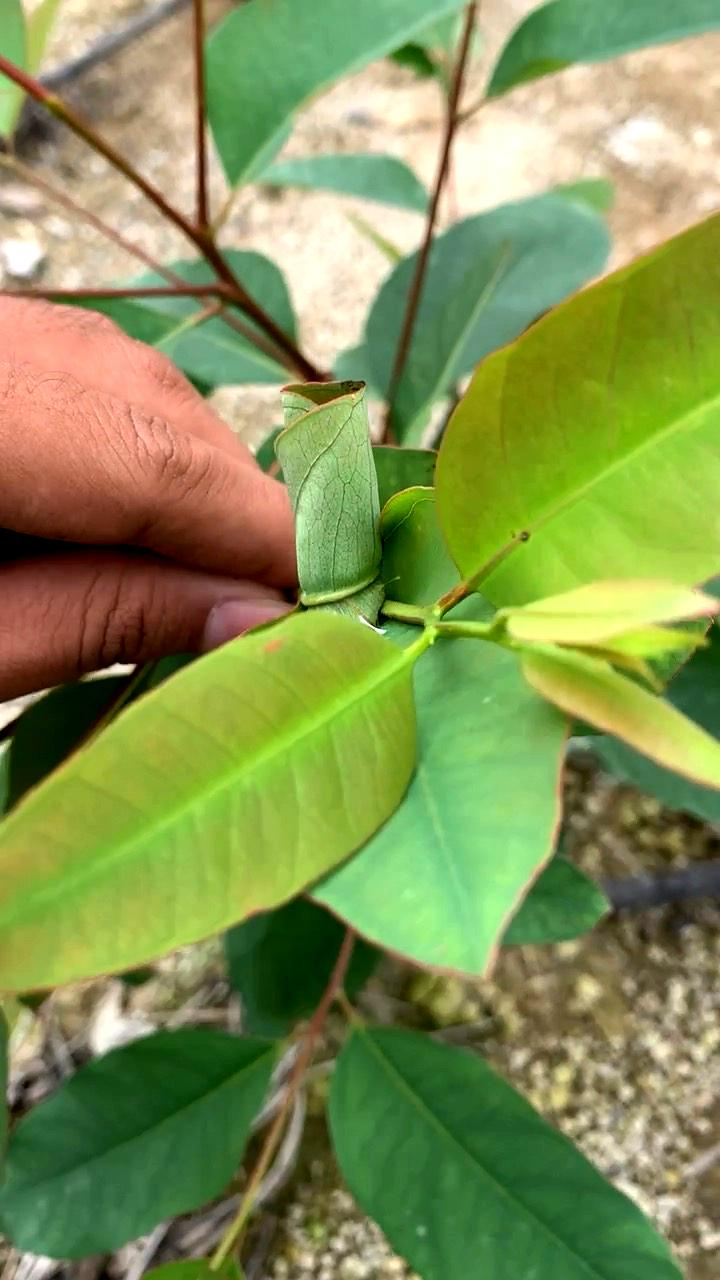Leaf Roller - Leaf: (266, 350, 415, 670)
